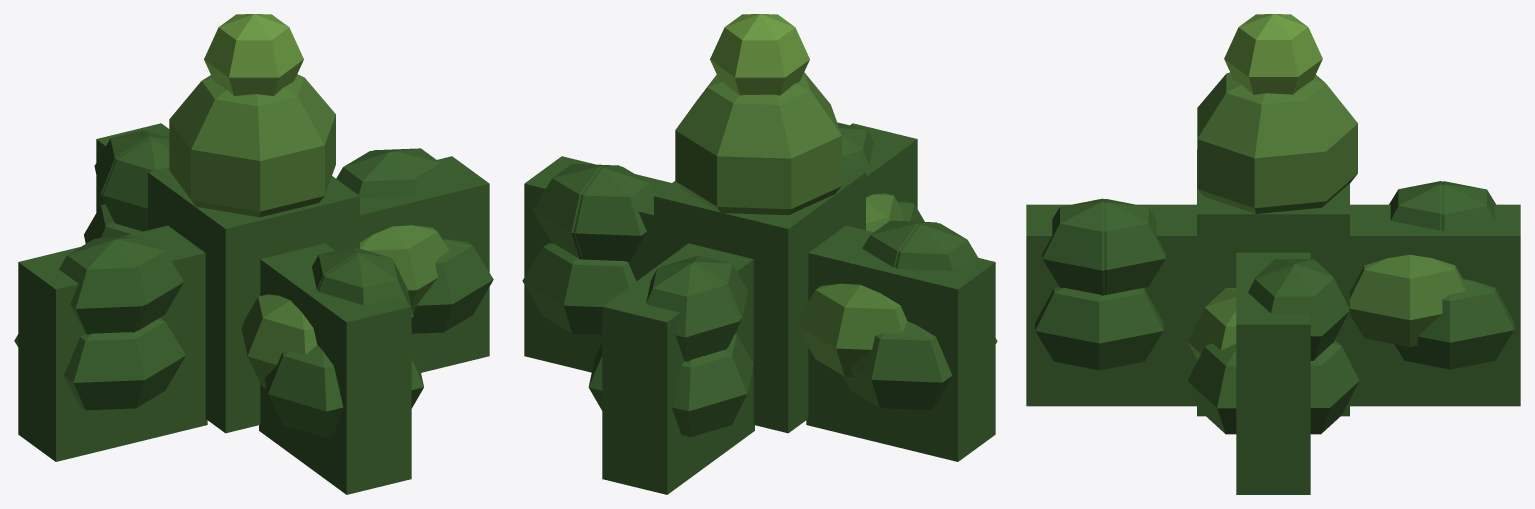
File: boxhedge_cross.glb
The picture shows the model from 3 angles, left to right: view 1: azimuth 30°, elevation 25°; view 2: azimuth 150°, elevation 25°; view 3: azimuth 270°, elevation 25°; orthographic projection.
Visible parts, largest first — view 1: fence_boxhedge_cross; view 2: fence_boxhedge_cross; view 3: fence_boxhedge_cross.
Part boxes in pixels (x1,y1,x2,y2): fence_boxhedge_cross: (14, 14, 493, 494); fence_boxhedge_cross: (522, 14, 997, 494); fence_boxhedge_cross: (1026, 14, 1520, 494).
Size of the model in its own units: 2 by 1.68 by 2.
